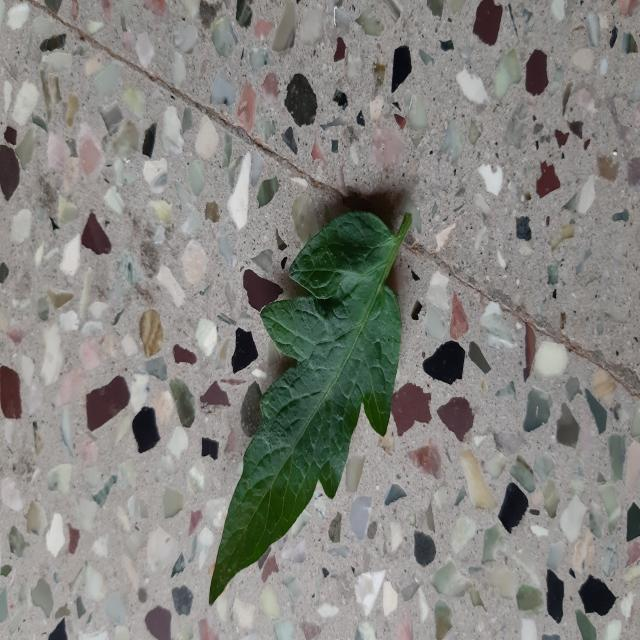tomato: (210, 211, 411, 602)
